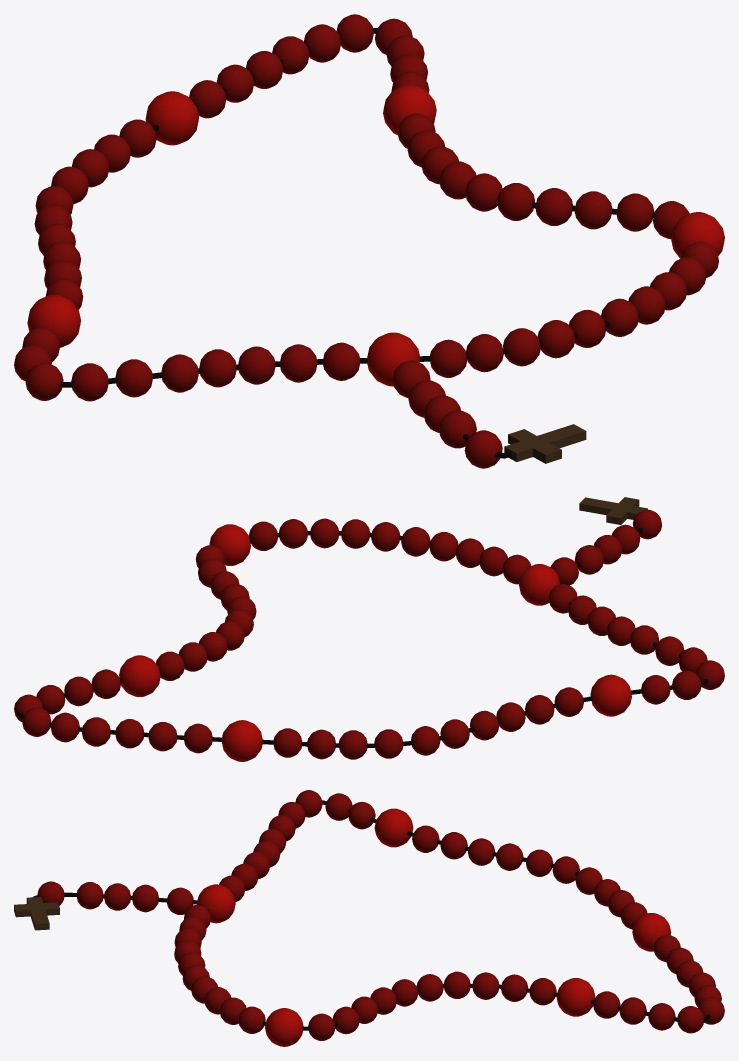
Rendered from Rosary.glb.
3 renders of one model, top to bottom at view 1: azimuth 30°, elevation 25°; view 2: azimuth 150°, elevation 25°; view 3: azimuth 270°, elevation 25°, orthographic. The views are drawn at different scales.
Parts seen in each view (by area): view 1: rosary_small_beads, rosary_big_beads, cross, rosary_thread; view 2: rosary_small_beads, rosary_big_beads, cross, rosary_thread; view 3: rosary_small_beads, rosary_big_beads, cross, rosary_thread.
Part boxes in pixels (x1,y1,x2,y2): rosary_small_beads: [14, 14, 718, 468]; rosary_big_beads: [27, 84, 724, 386]; cross: [504, 424, 586, 463]; rosary_thread: [28, 28, 654, 458]; rosary_small_beads: [14, 509, 724, 759]; rosary_big_beads: [119, 524, 631, 761]; cross: [579, 497, 647, 524]; rosary_thread: [17, 528, 708, 747]; rosary_small_beads: [37, 790, 724, 1040]; rosary_big_beads: [196, 808, 671, 1046]; cross: [14, 897, 59, 930]; rosary_thread: [33, 800, 710, 1030].
Size of the model in its own units: 1.33 by 0.0918 by 1.67.
